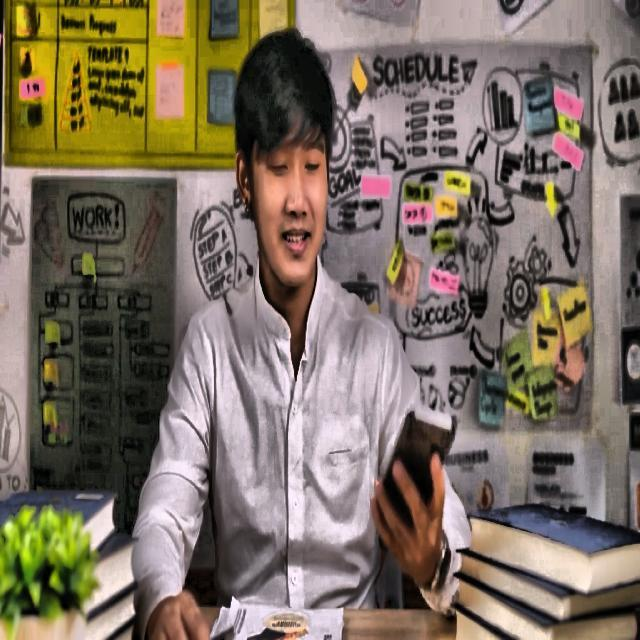Phone: (376, 403, 454, 555)
